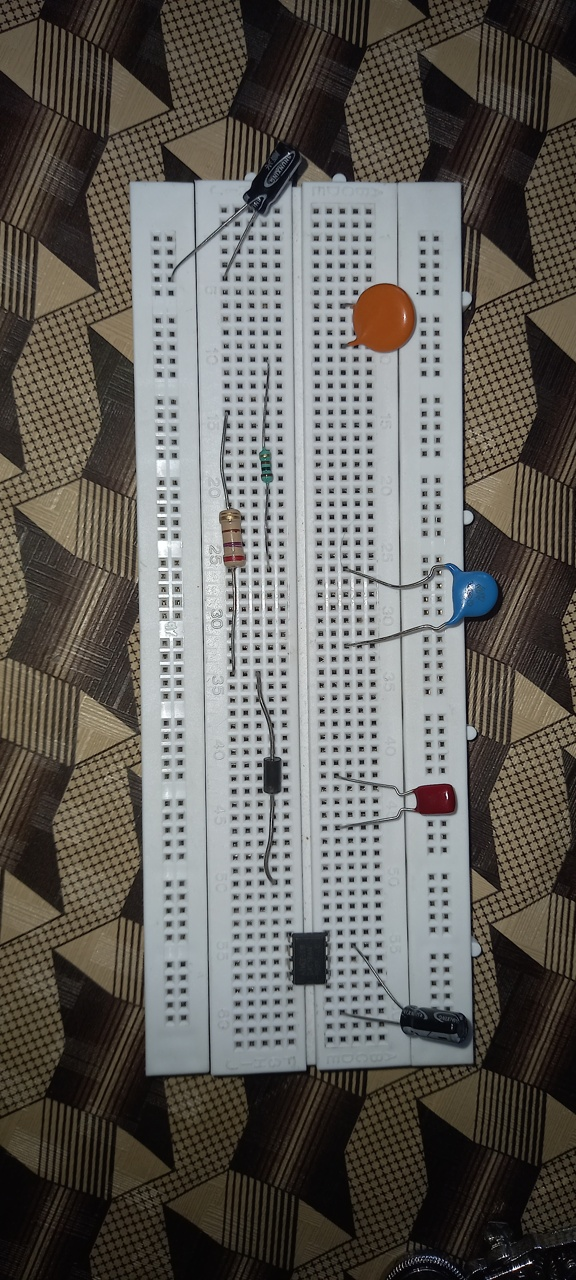capacitor: (352, 282, 418, 352), (244, 139, 303, 217), (400, 1005, 470, 1045), (452, 563, 500, 620), (412, 783, 457, 815)
resistor: (220, 508, 249, 572), (258, 448, 276, 485)
